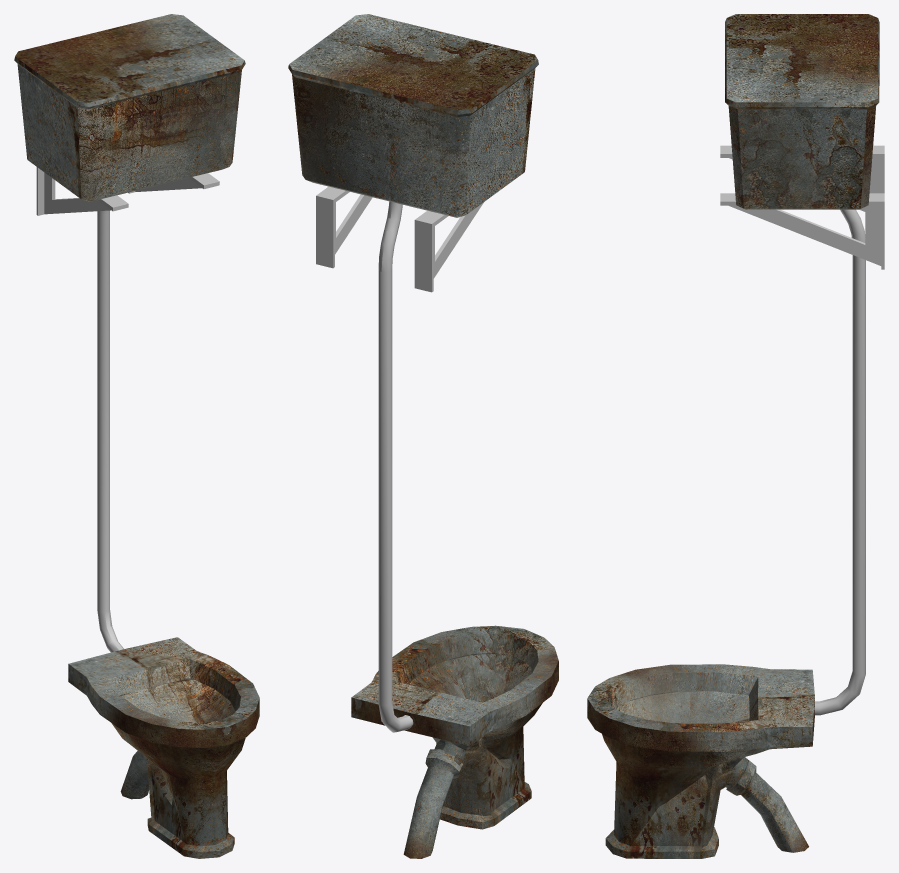
File: Toilet.fbx
3 views of the same model, side by side, from view 1: azimuth 30°, elevation 25°; view 2: azimuth 150°, elevation 25°; view 3: azimuth 270°, elevation 25° (orthographic). The views are drawn at different scales.
Visible parts, largest first — view 1: Toilet; view 2: Toilet; view 3: Toilet.
Part boxes in pixels (x1,y1,x2,y2): Toilet: (14, 14, 259, 858); Toilet: (288, 14, 558, 858); Toilet: (587, 14, 884, 858).
Size of the model in its own units: 63.6 by 261 by 89.34.
